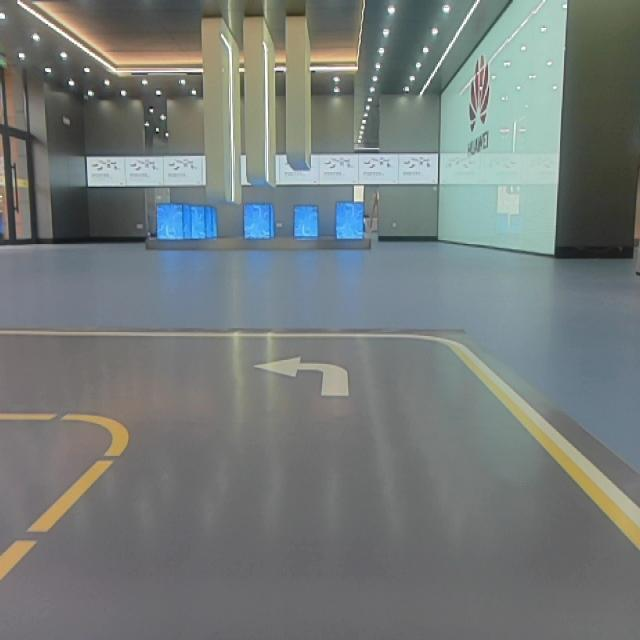left_lane: (0, 434, 131, 586)
right_lane: (439, 340, 640, 543)
